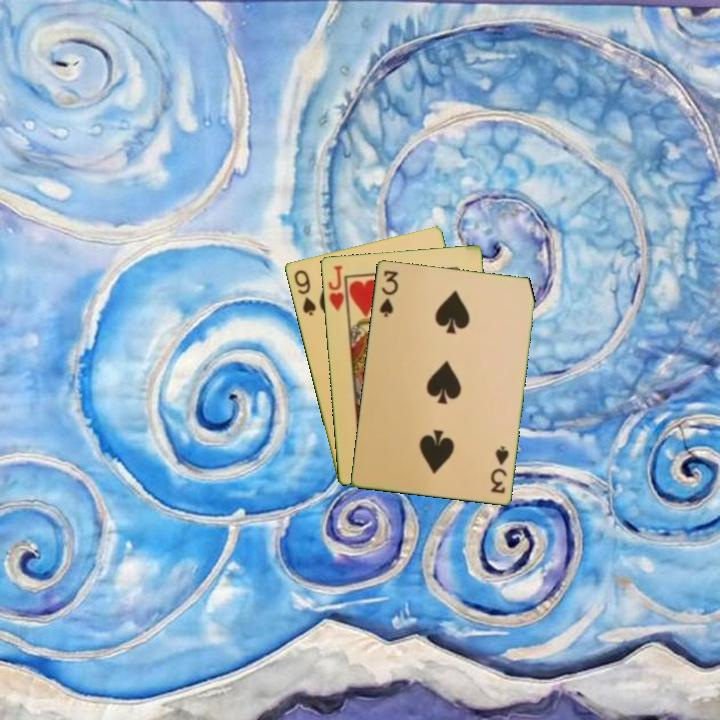3s: (376, 266, 401, 320), (487, 442, 511, 496)
9s: (290, 266, 318, 318)
Jh: (324, 262, 351, 317)
